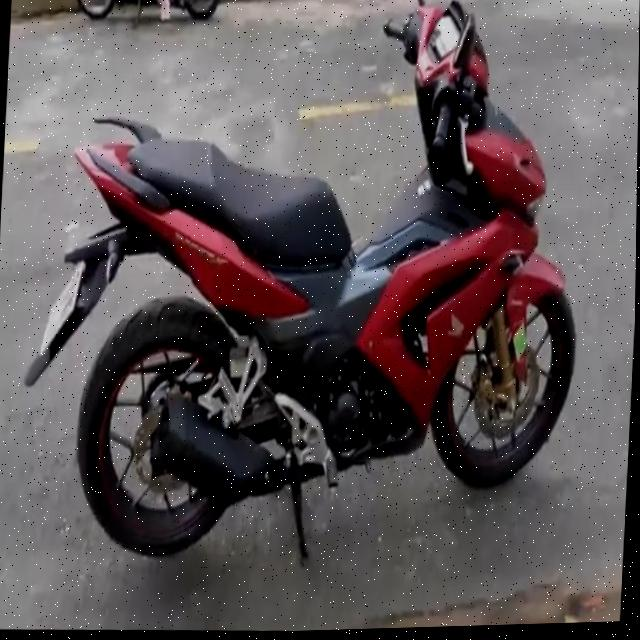motorcycle: (14, 0, 605, 569)
